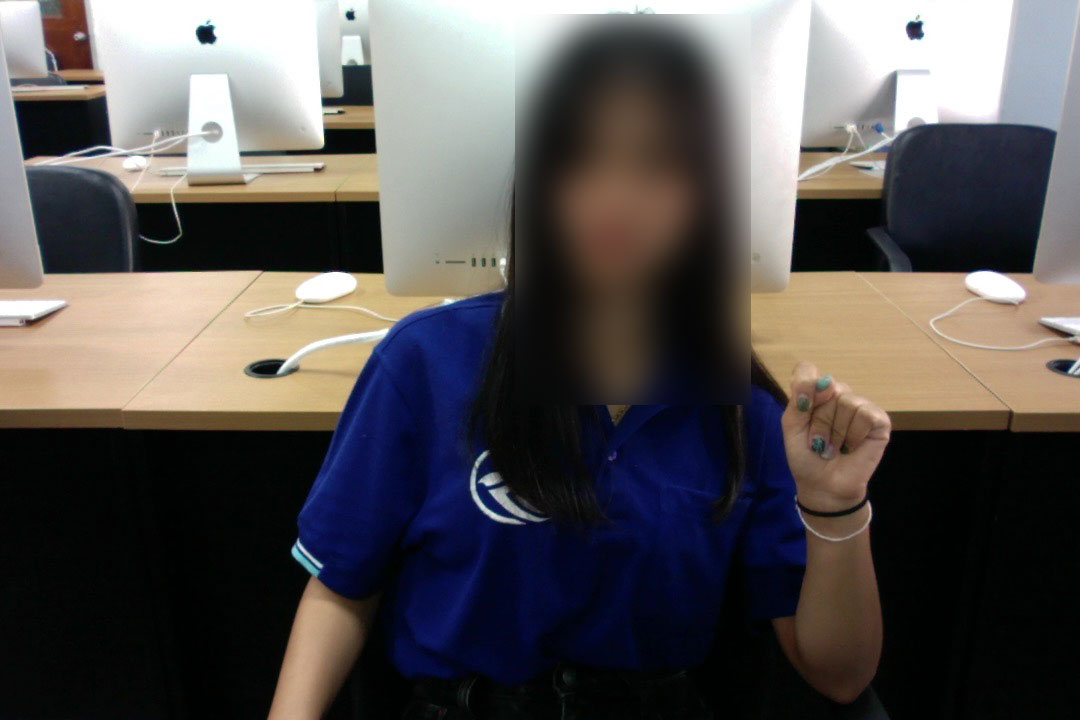tor: (778, 358, 896, 526)
